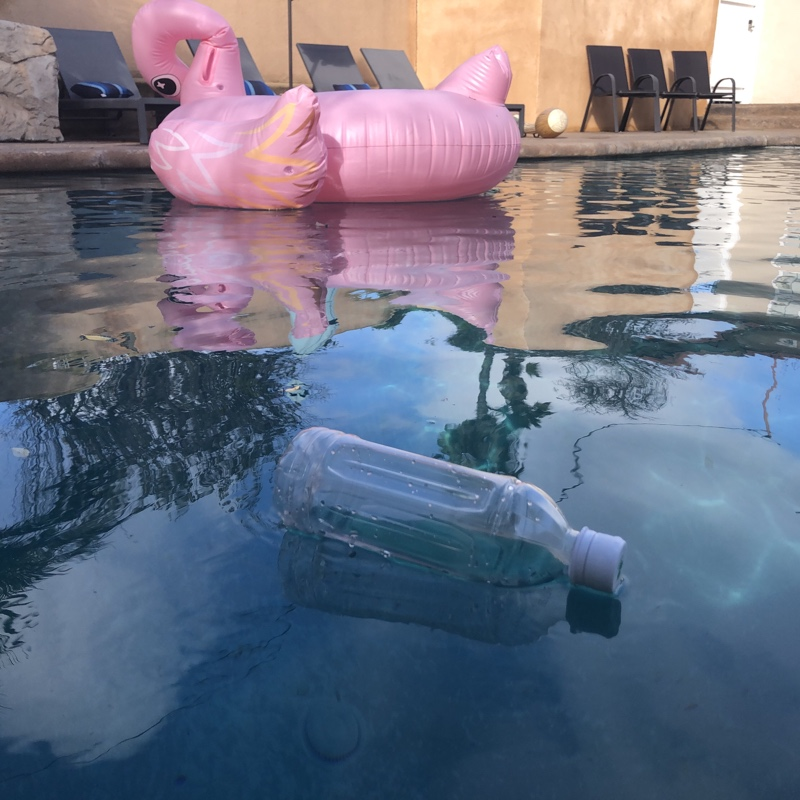Plastic Bottle: (267, 424, 632, 603)
